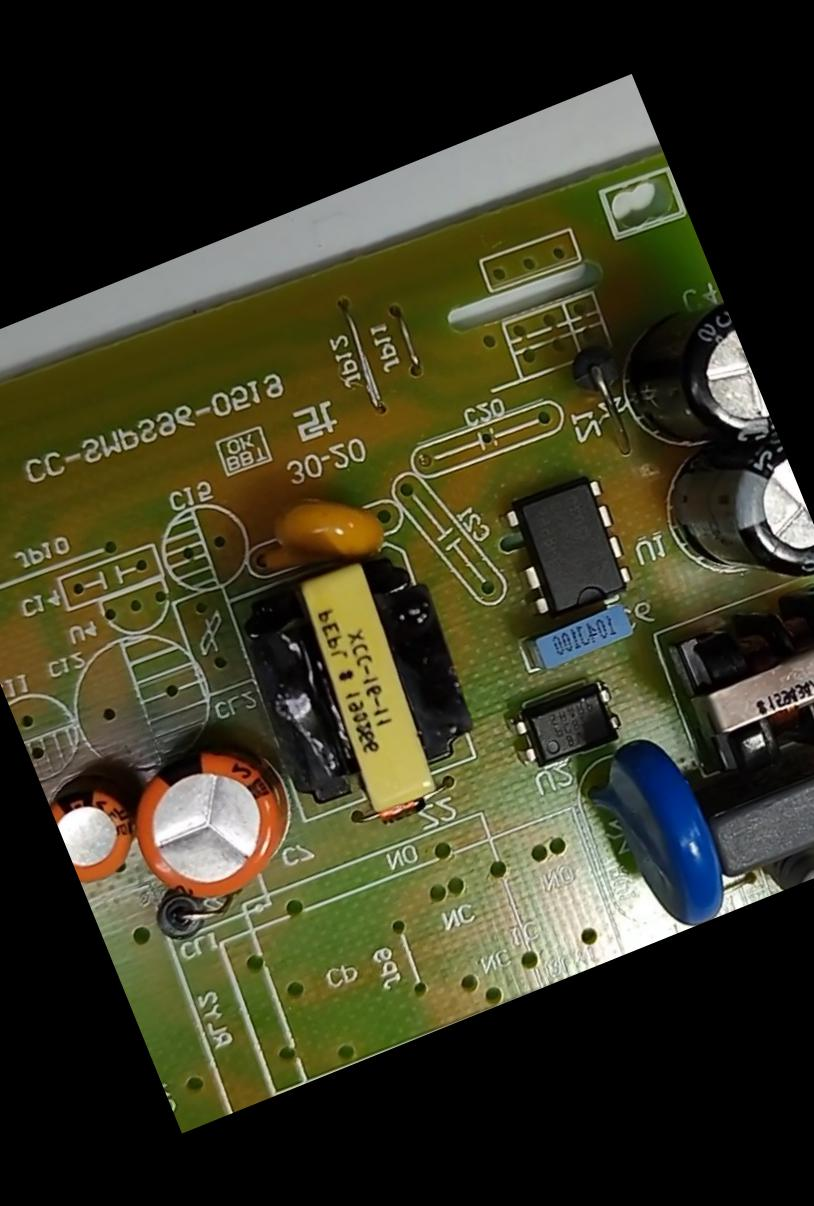Cap1: (93, 698, 329, 938)
Cap2: (38, 745, 170, 905)
Cap3: (628, 413, 813, 630)
Cap4: (568, 275, 782, 506)
MOSFET: (488, 459, 650, 640)
Mov: (572, 715, 758, 944)
Resistor: (761, 837, 813, 895)
Transformer: (216, 532, 503, 858), (653, 579, 813, 794)
